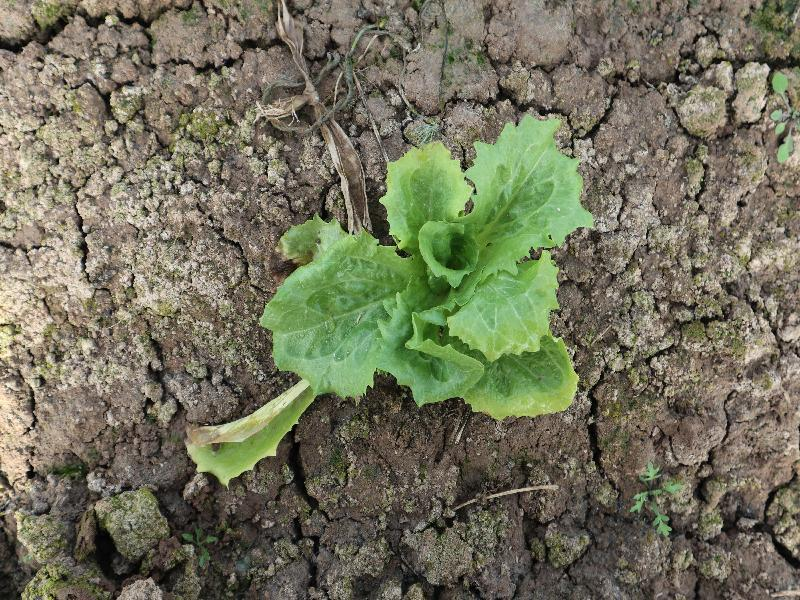lettuce: (258, 114, 594, 422)
